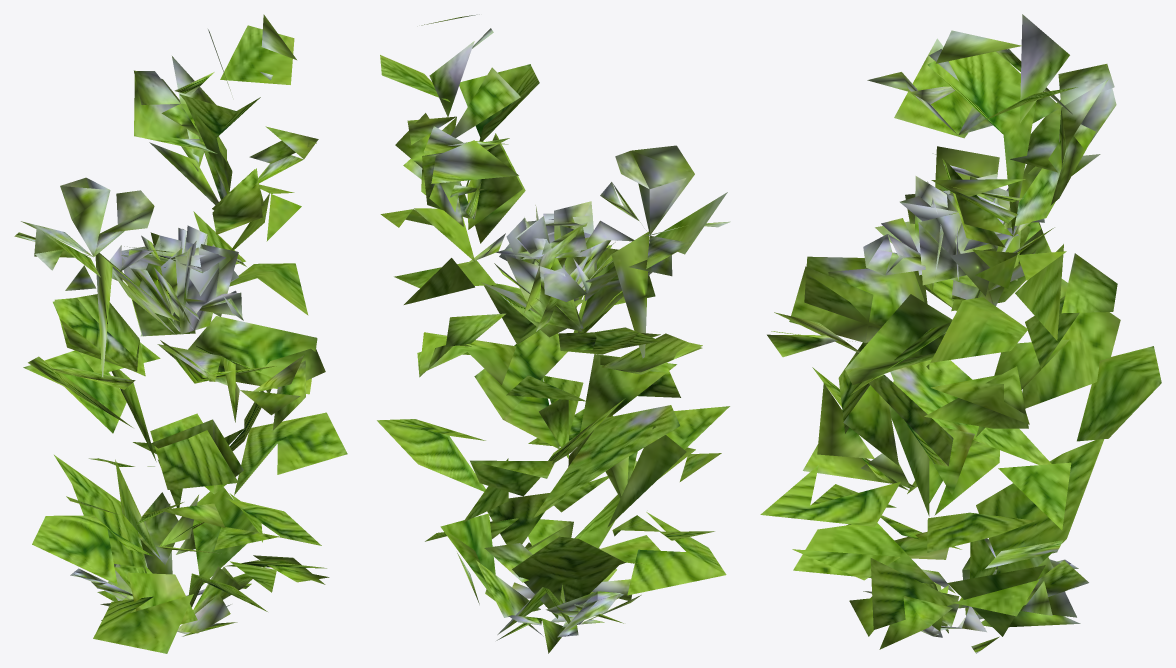
The model's file is crop-mint.lod1.glb.
3 views of the same model, side by side, from view 1: azimuth 30°, elevation 25°; view 2: azimuth 150°, elevation 25°; view 3: azimuth 270°, elevation 25° (orthographic). The views are drawn at different scales.
Parts seen in each view (by area): view 1: plant.001, fruit.001; view 2: plant.001, fruit.001; view 3: plant.001, fruit.001.
Boxes of the visible parts, x1,y1,x2,y2 form: plant.001: (14,14,347,653); fruit.001: (35,71,272,634); plant.001: (377,14,729,653); fruit.001: (472,28,730,637); plant.001: (760,14,1161,653); fruit.001: (863,49,1078,637).
Size of the model in its own units: 0.2141 by 0.3762 by 0.2055.
Materials: 1 (1 with a texture image).
